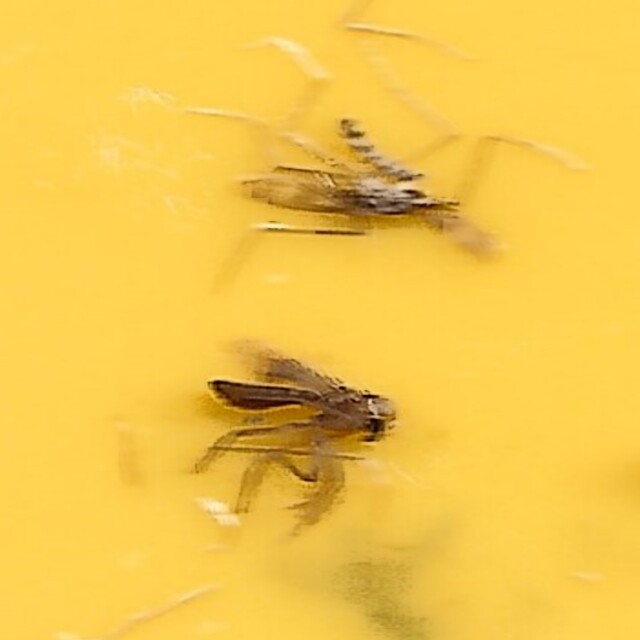Nematocera: (182, 359, 408, 519), (226, 121, 458, 235)
